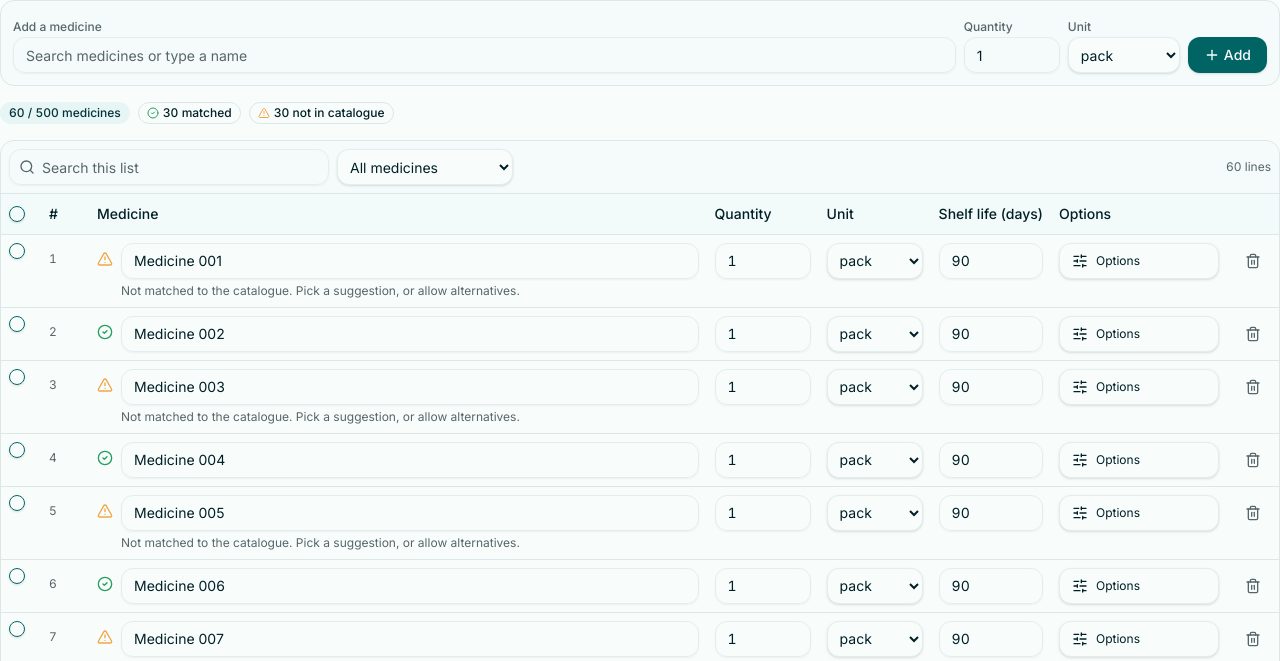
Test: selects a page, offers the whole view, and removes the selection
Click the checkbox named "Select all lines on this page" at x=17, y=214, box [9,206,25,222]
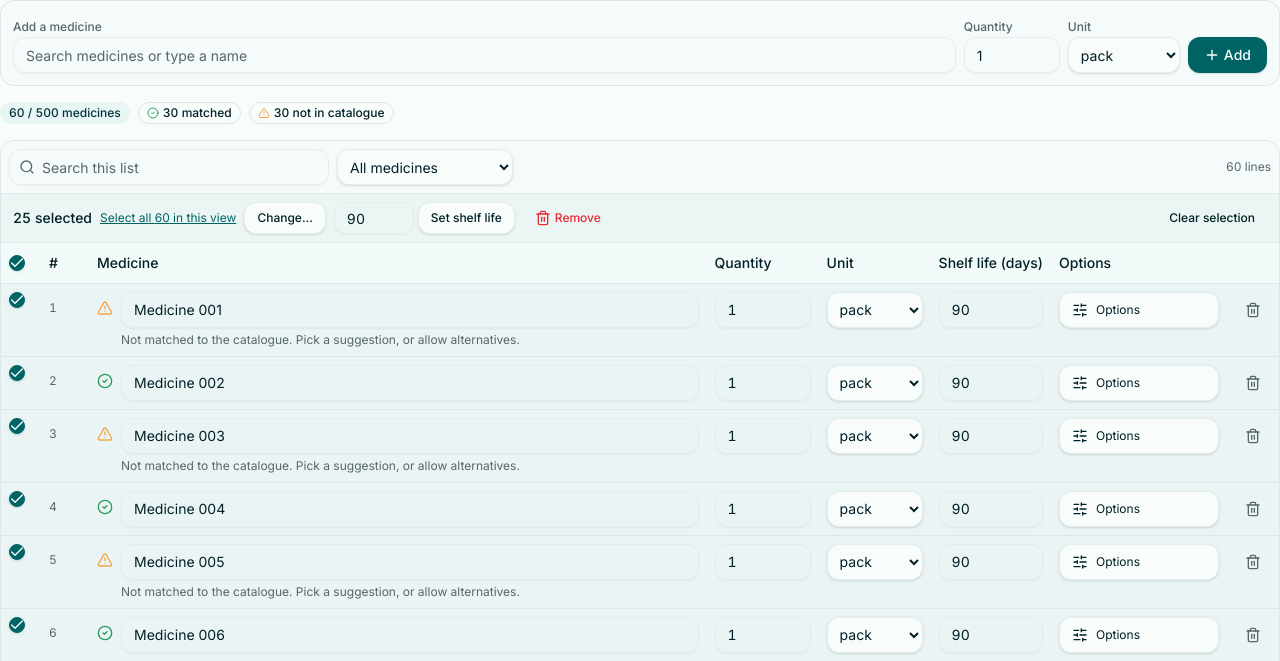
Check: the text "25 selected" is shown, box [13,208,92,228]
Check: the text "Select all 60 in this view" is shown, box [100,210,236,226]
Click the button "Remove" at x=568, y=218, box [523,202,613,234]
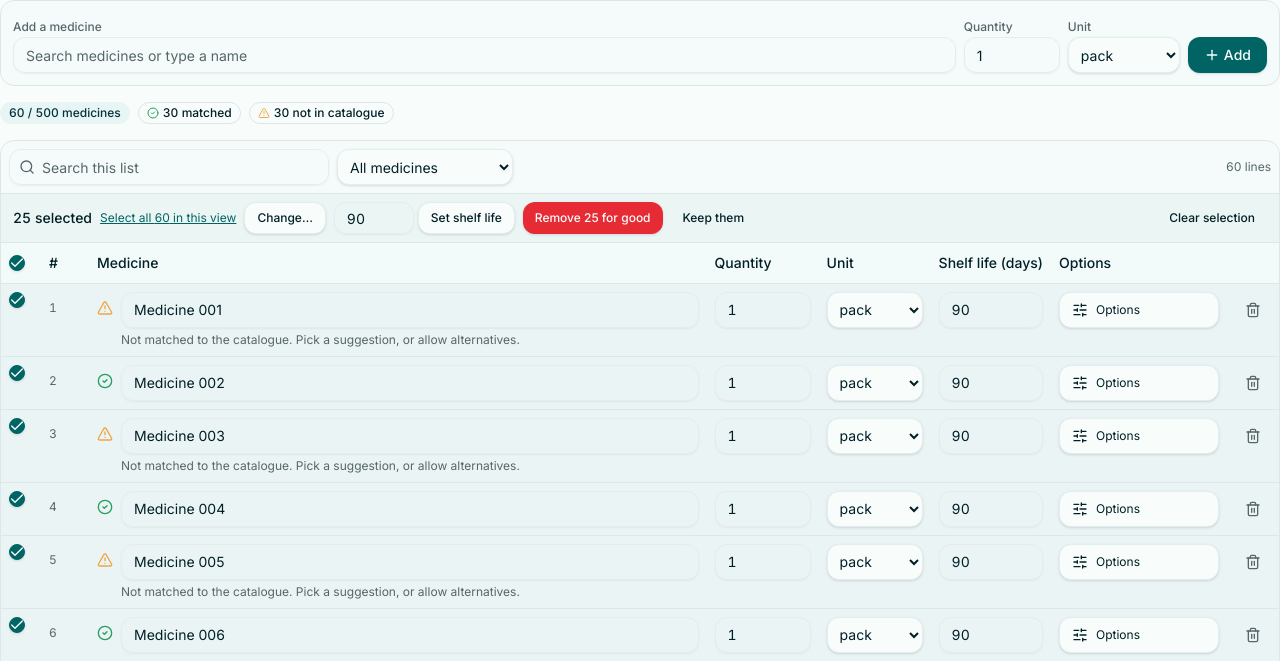
Click the button "Remove 25 for good" at x=593, y=218, box [523,202,663,234]
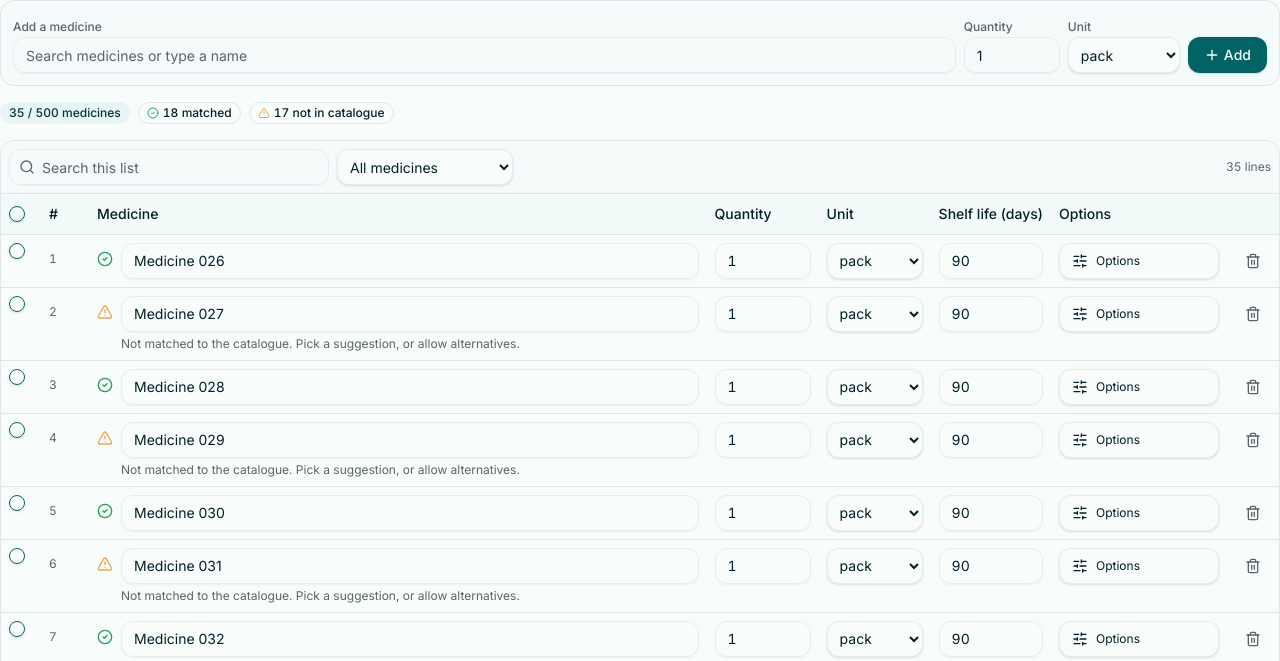
Check: the text "selected" is gone
